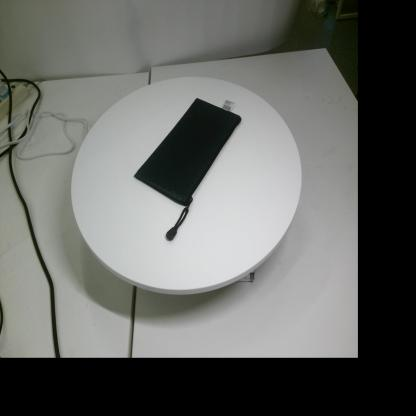Stationery: (134, 98, 241, 240)
